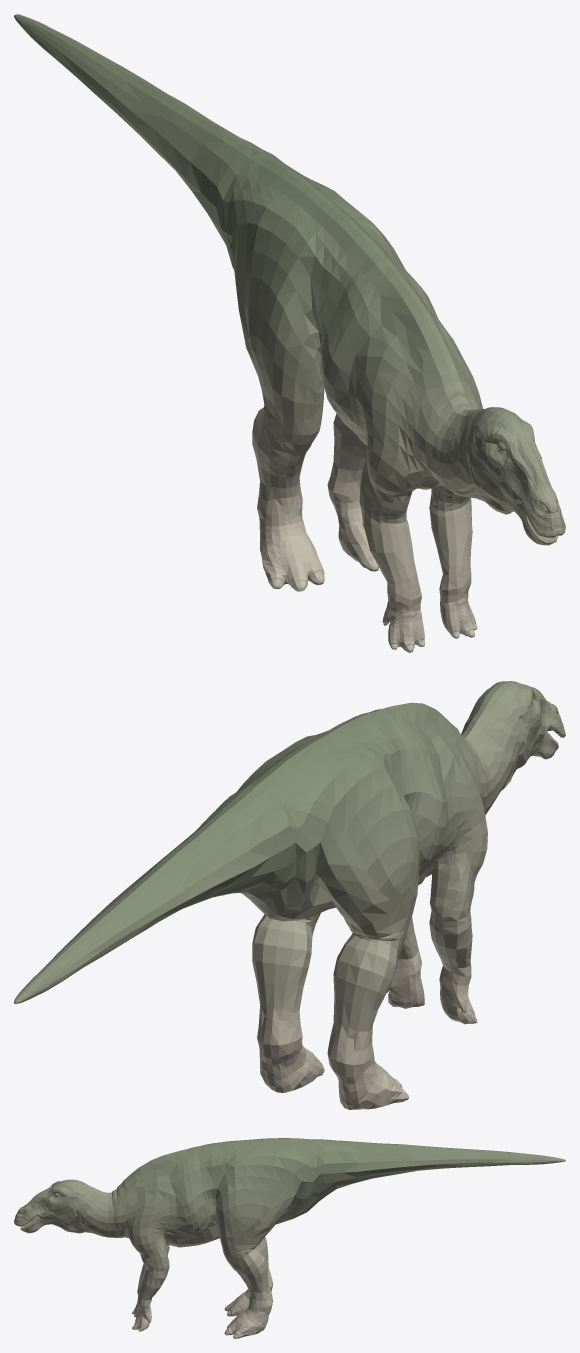
File: edmontosaurus.glb
3 views of the same model, one above another, from view 1: azimuth 30°, elevation 25°; view 2: azimuth 150°, elevation 25°; view 3: azimuth 270°, elevation 25° (orthographic). The views are drawn at different scales.
Parts seen in each view (by area): view 1: edmontosaurus.stl; view 2: edmontosaurus.stl; view 3: edmontosaurus.stl.
Part boxes in pixels (box(x1,y1,x2,y2)): edmontosaurus.stl: box(14, 14, 565, 652); edmontosaurus.stl: box(14, 681, 565, 1109); edmontosaurus.stl: box(14, 1138, 565, 1338).
Size of the model in its own units: 1.59 by 3.77 by 10.2.
